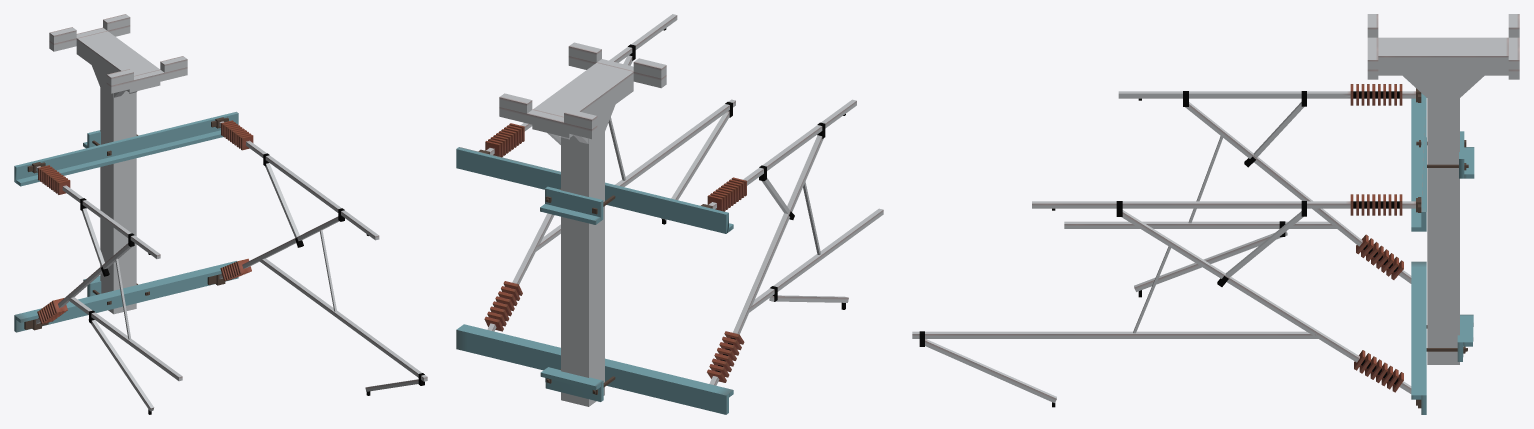
Rendered from catenary_top_double_left.obj.
3 renders of one model, left to right at view 1: azimuth 30°, elevation 25°; view 2: azimuth 150°, elevation 25°; view 3: azimuth 270°, elevation 25°, orthographic. The views are drawn at different scales.
Visible parts, largest first — view 1: catenary_top_double_left; view 2: catenary_top_double_left; view 3: catenary_top_double_left.
Boxes of the visible parts, bbox=[...] form: catenary_top_double_left: bbox=[14, 14, 427, 414]; catenary_top_double_left: bbox=[456, 14, 883, 414]; catenary_top_double_left: bbox=[912, 14, 1519, 414].
Size of the model in its own units: 1.82 by 2.04 by 3.5.
1 material, 1 textured.
